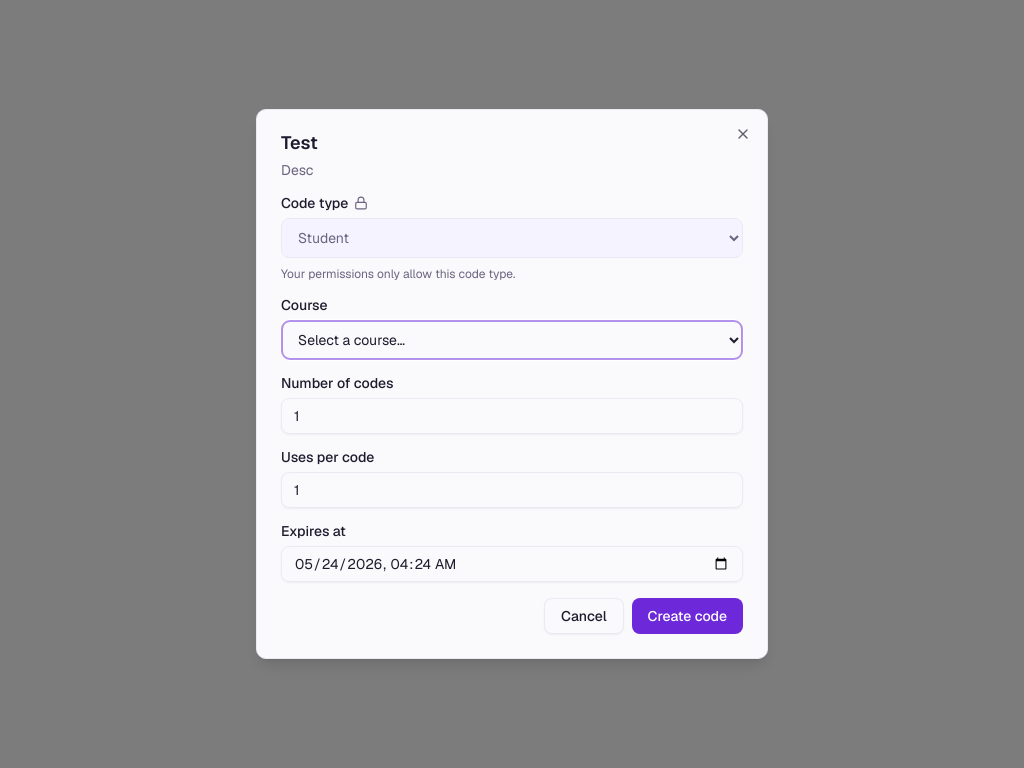
Scenario: CreateRegistrationCodeDialog › validates course selection required for student codes
Click the button "Create code": {"x": 687, "y": 616} [632,598,743,634]
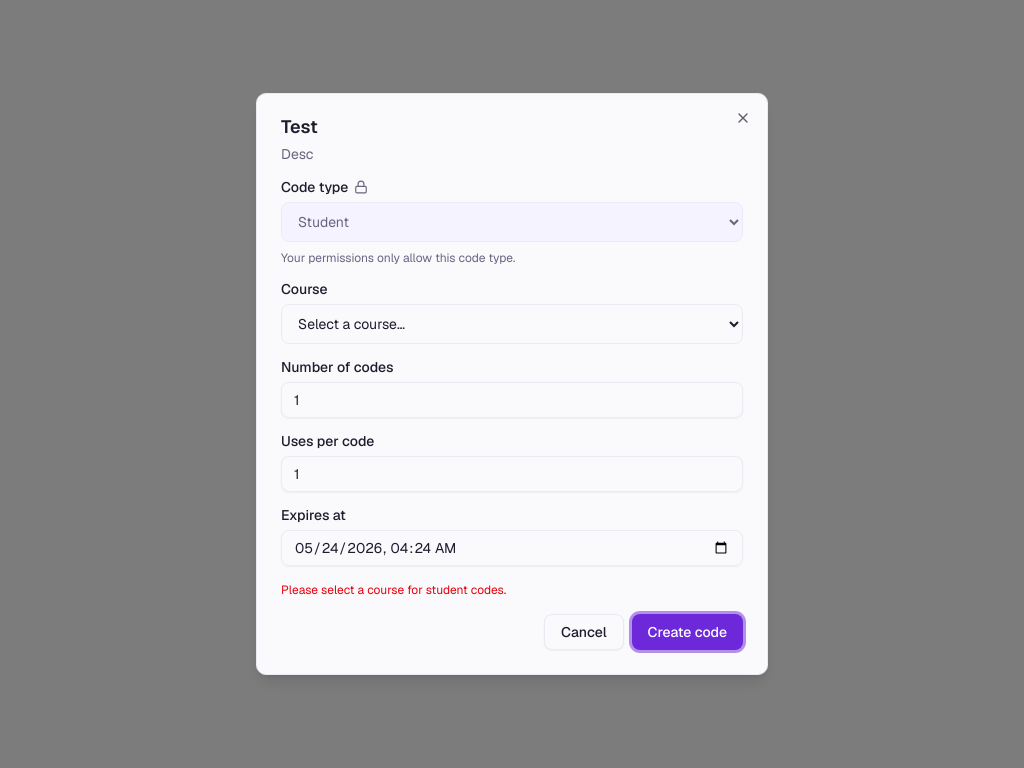
Expected: the text "Please select a course for student codes." is shown, [281,582,506,598]
